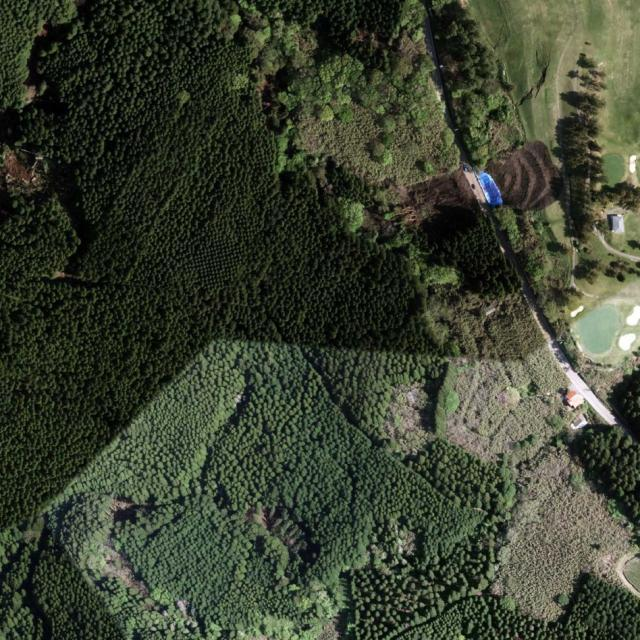landslide: (487, 140, 563, 210)
